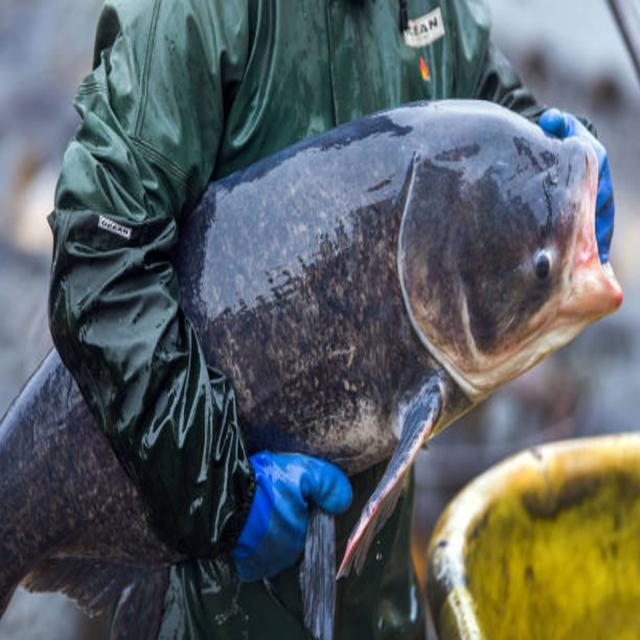Big-Head-Carp: (18, 127, 638, 614)
